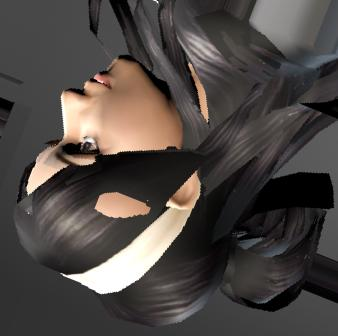clip: (94, 188, 139, 219)
